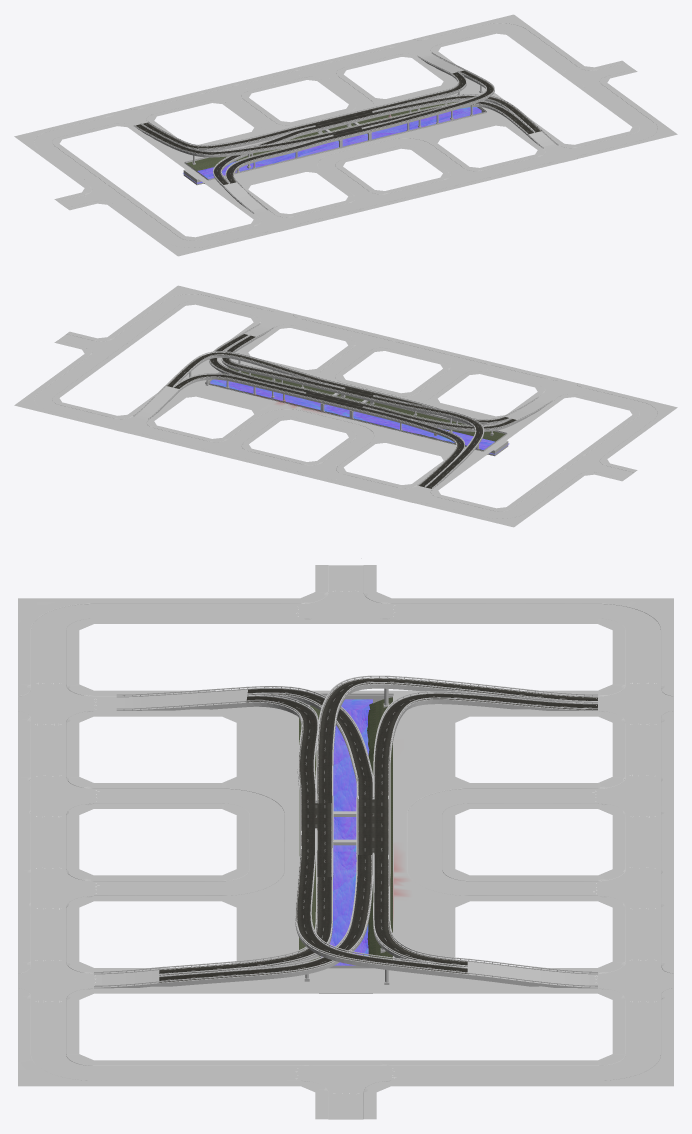
File: Double-Block-14.fbx
The picture shows the model from 3 angles, top to bottom: view 1: azimuth 30°, elevation 25°; view 2: azimuth 150°, elevation 25°; view 3: azimuth 270°, elevation 25°; orthographic projection. The views are drawn at different scales.
Parts seen in each view (by area): view 1: DB14-C, DB14-B, Road.003, Road.002, Viaduct-B, Viaduct-A, Road-V.001, Road-V.002; view 2: DB14-C, DB14-B, Road.003, Road.002, Viaduct-A, Road-V.002, Road-V.001, Viaduct-B; view 3: DB14-B, DB14-C, Road.003, Road.002, Road-V.001, Road-V.002, Viaduct-A, Viaduct-B.
Boxes of the visible parts, x1,y1,x2,y2 form: DB14-C: (14, 75, 427, 256); DB14-B: (264, 14, 677, 195); Road.003: (34, 78, 424, 247); Road.002: (268, 23, 657, 192); Viaduct-B: (133, 115, 351, 213); Viaduct-A: (330, 52, 558, 148); Road-V.001: (135, 116, 364, 213); Road-V.002: (343, 53, 557, 148); DB14-C: (264, 346, 677, 527); DB14-B: (14, 285, 427, 466); Road.003: (267, 349, 657, 518); Road.002: (34, 294, 423, 463); Viaduct-A: (133, 323, 362, 419); Road-V.002: (134, 324, 348, 419); Road-V.001: (328, 386, 550, 488); Viaduct-B: (330, 388, 552, 488); DB14-B: (18, 841, 673, 1119); DB14-C: (18, 565, 673, 851); Road.003: (18, 565, 673, 842); Road.002: (18, 842, 673, 1119); Road-V.001: (116, 678, 597, 830); Road-V.002: (94, 830, 597, 986); Viaduct-A: (94, 814, 597, 988); Viaduct-B: (116, 675, 597, 824).
Size of what is drawn, in the model's own units: 600 by 24.07 by 300.
